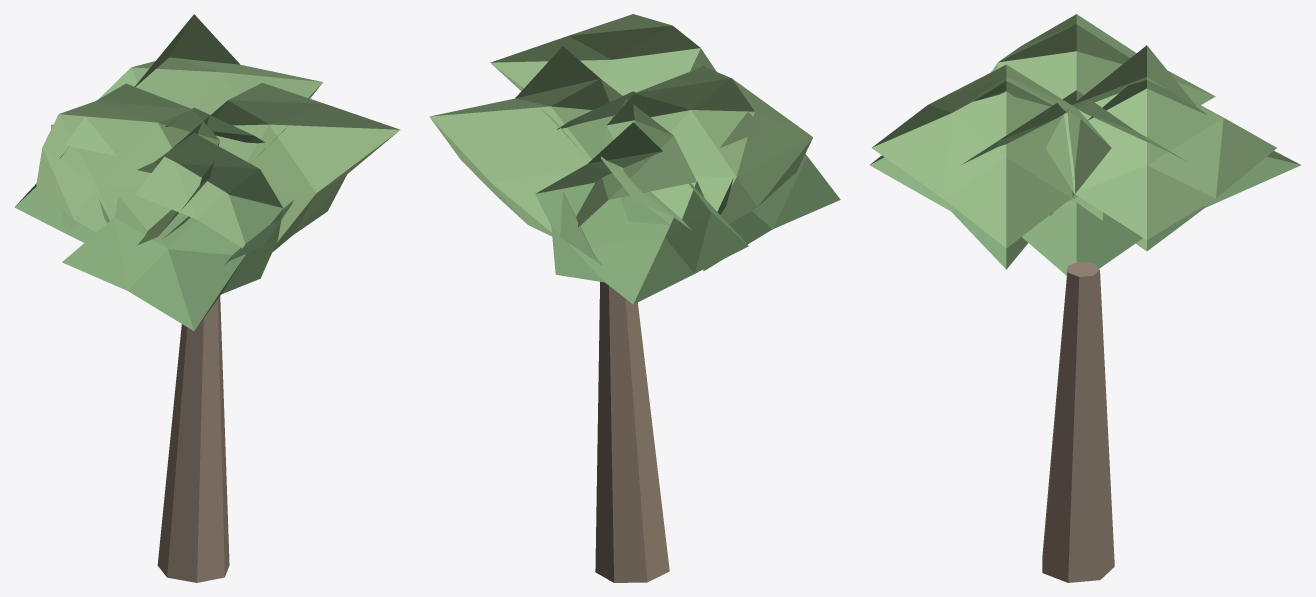
Rendered from broadleaf_v38.glb.
The picture shows the model from 3 angles, left to right: view 1: azimuth 30°, elevation 25°; view 2: azimuth 150°, elevation 25°; view 3: azimuth 270°, elevation 25°; orthographic projection. The views are drawn at different scales.
Visible parts, largest first — view 1: lod0; view 2: lod0; view 3: lod0.
Boxes of the visible parts, bbox=[...] form: lod0: bbox=[14, 14, 400, 582]; lod0: bbox=[429, 14, 840, 582]; lod0: bbox=[869, 14, 1301, 582].
Size of what is drawn, in the model's own units: 3.81 by 5.61 by 4.08.
